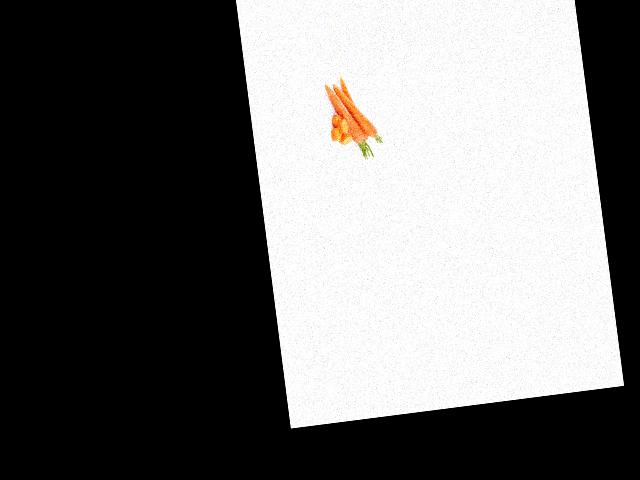carrot: (323, 79, 367, 152)
